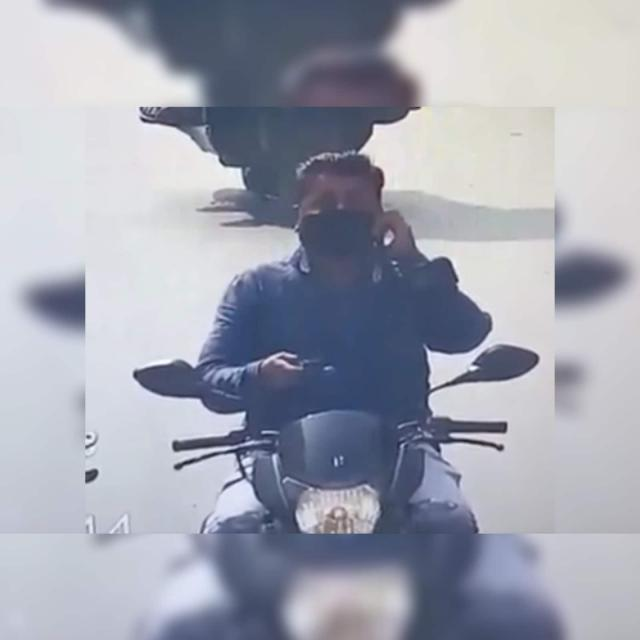Not Wearing Helmet: (232, 146, 436, 246)
Usage Of Phone While Riding: (278, 190, 472, 306)
